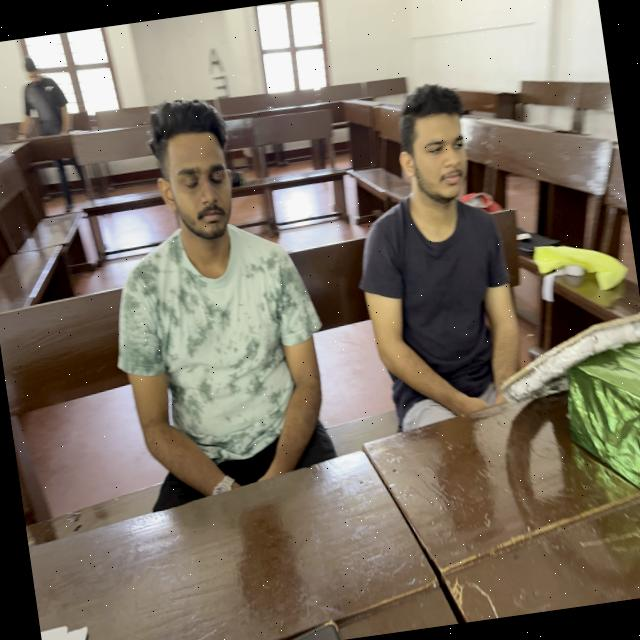no-seatbelt: (100, 216, 334, 526), (353, 193, 531, 469)
